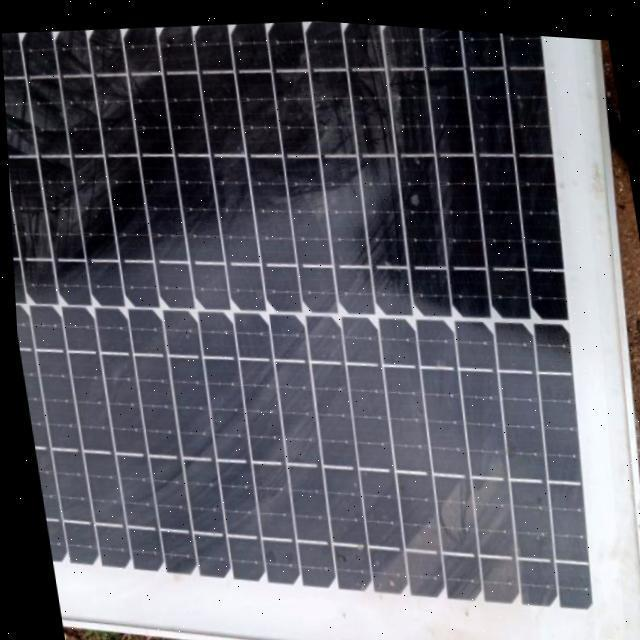Surface Contaminant: (1, 16, 588, 603)
